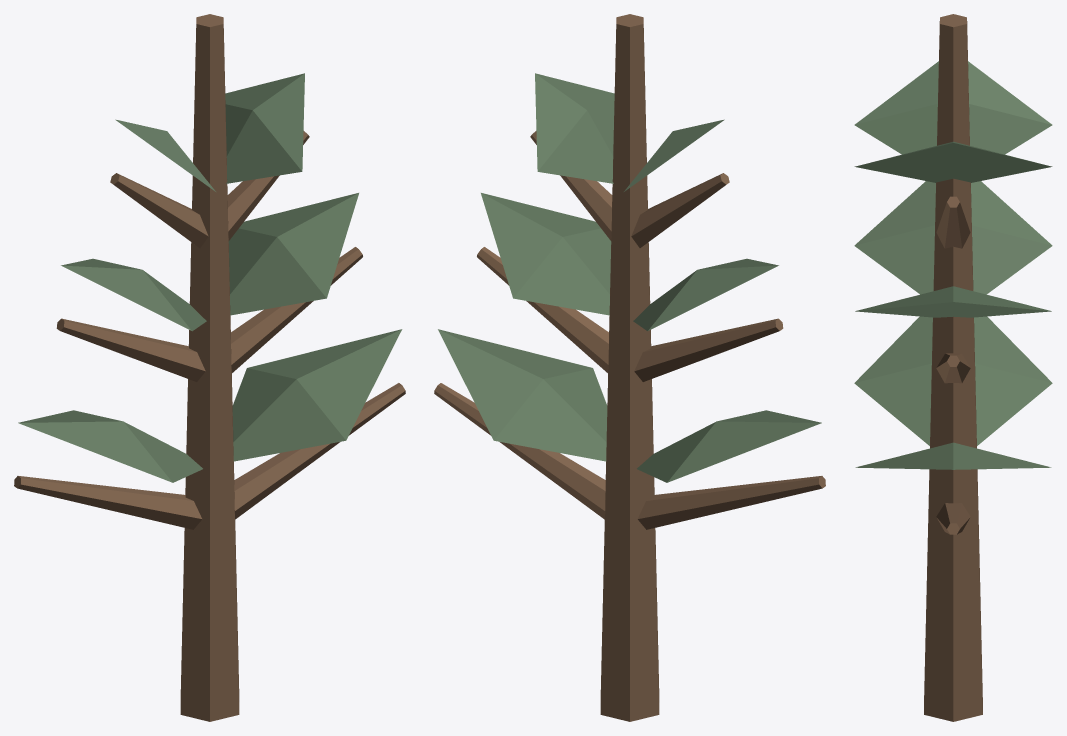
Rendered from map-exclusive-v3__ridge_02.glb.
3 renders of one model, left to right at view 1: azimuth 30°, elevation 25°; view 2: azimuth 150°, elevation 25°; view 3: azimuth 270°, elevation 25°, orthographic.
Visible parts, largest first — view 1: ridge_02; view 2: ridge_02; view 3: ridge_02.
Boxes of the visible parts, <box> form: ridge_02: <box>14,14,405,721</box>; ridge_02: <box>434,14,825,721</box>; ridge_02: <box>854,14,1052,721</box>.
Size of the model in its own units: 1.72 by 2.9 by 0.7599.
